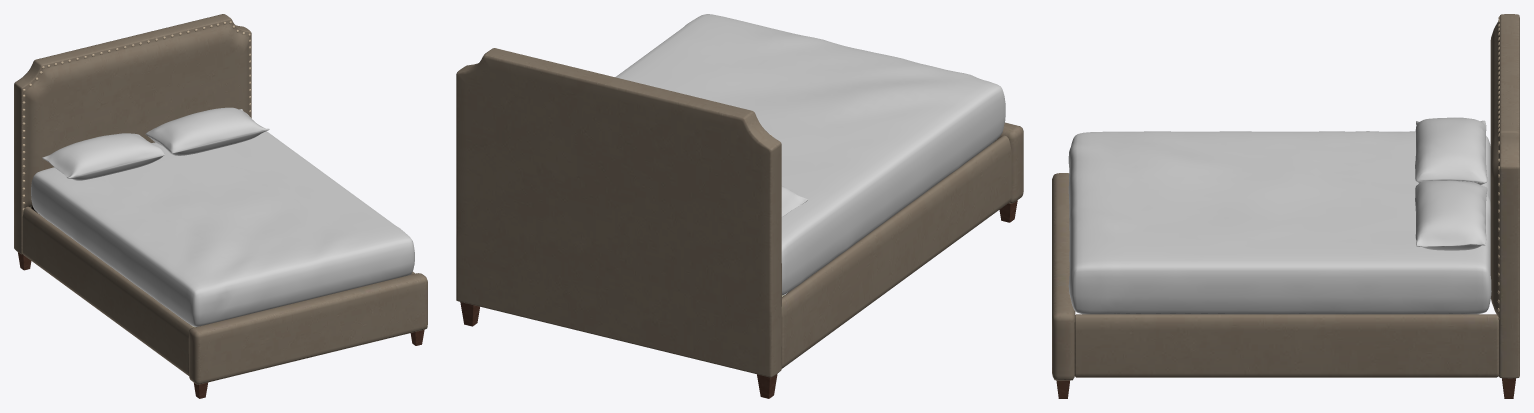
File: abo-B07B4YNHSN.glb
3 renders of one model, left to right at view 1: azimuth 30°, elevation 25°; view 2: azimuth 150°, elevation 25°; view 3: azimuth 270°, elevation 25°, orthographic. The views are drawn at different scales.
Size of the model in its own units: 1.7 by 1.42 by 2.33.
1 material, 1 textured.
